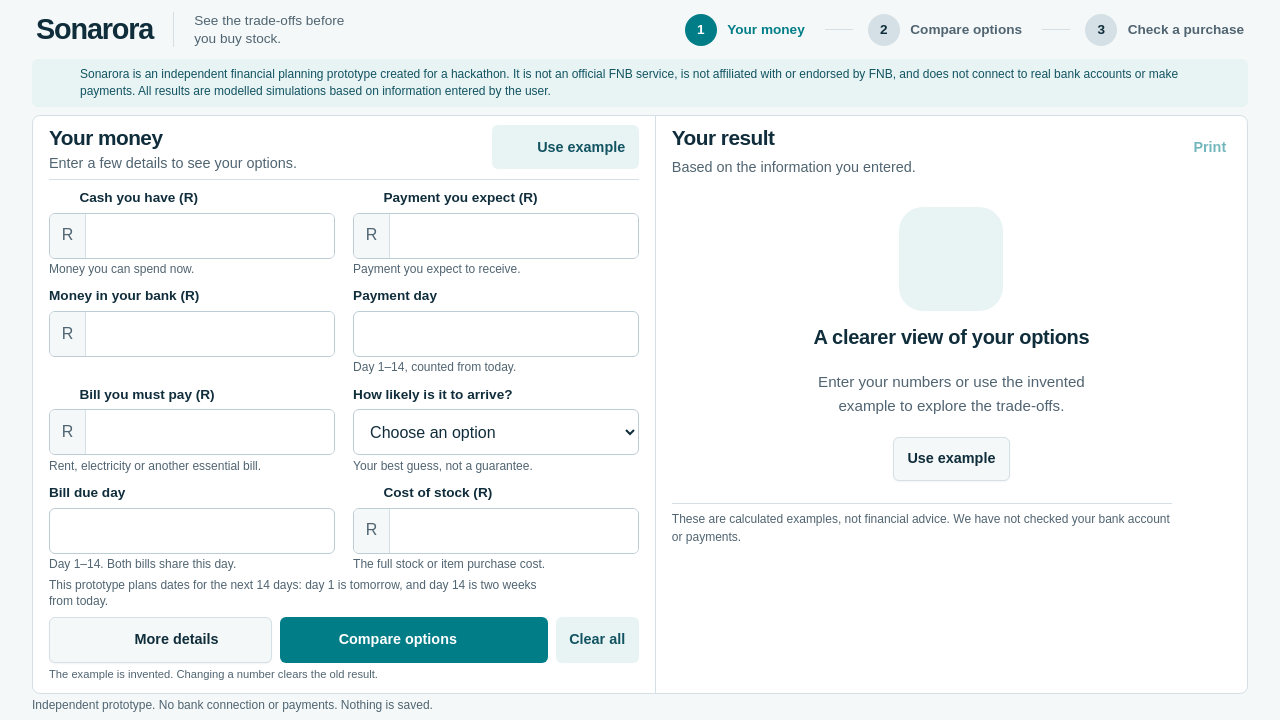
Test: Sprint 4 UI hardening › makes wait and rounding limitations visible without opening assumptions
This screenshot has width=1280, height=720.
Click the button "Use example" in the row of "Enter a few details to see your options." at (565, 148), box [492, 126, 639, 170]
Wait 5000 ms
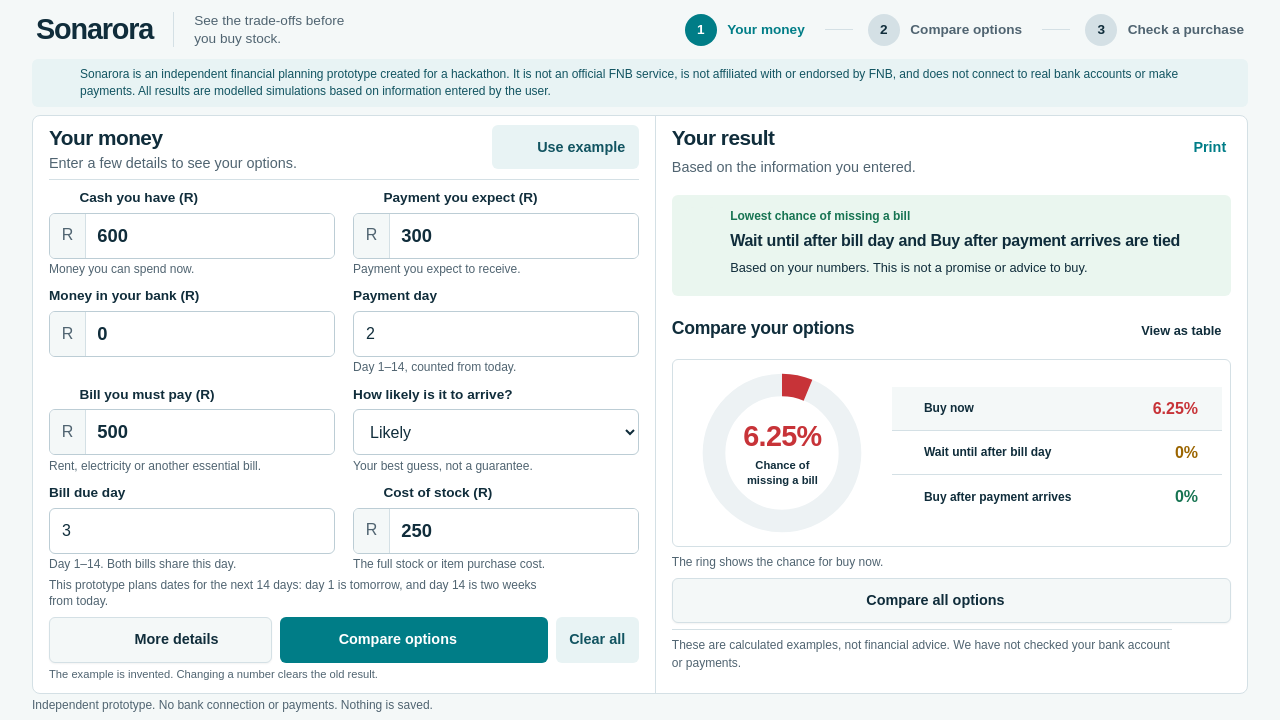
Click the button "Compare options" at (414, 640), box [280, 617, 548, 663]
Wait 5000 ms
(page scrolled)
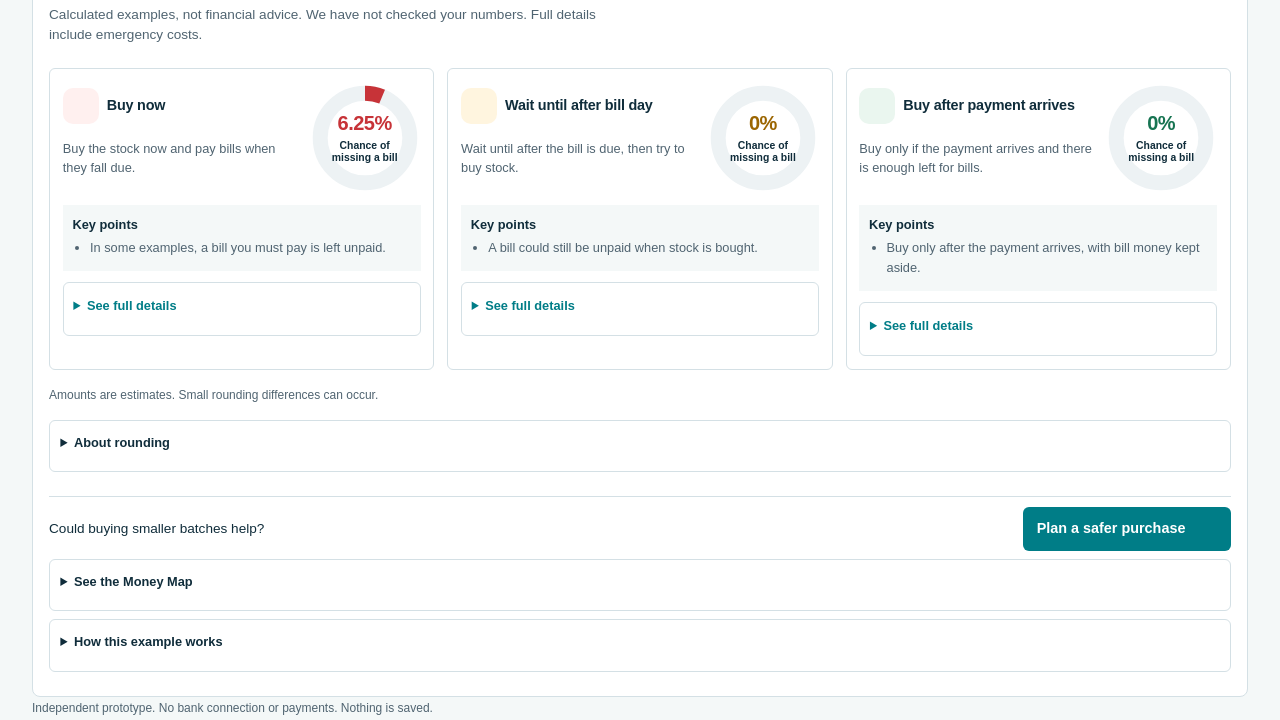
Check: the element that starts with "Wait until after bill day" shows "bill could still be unpaid", box [488, 240, 758, 255]
